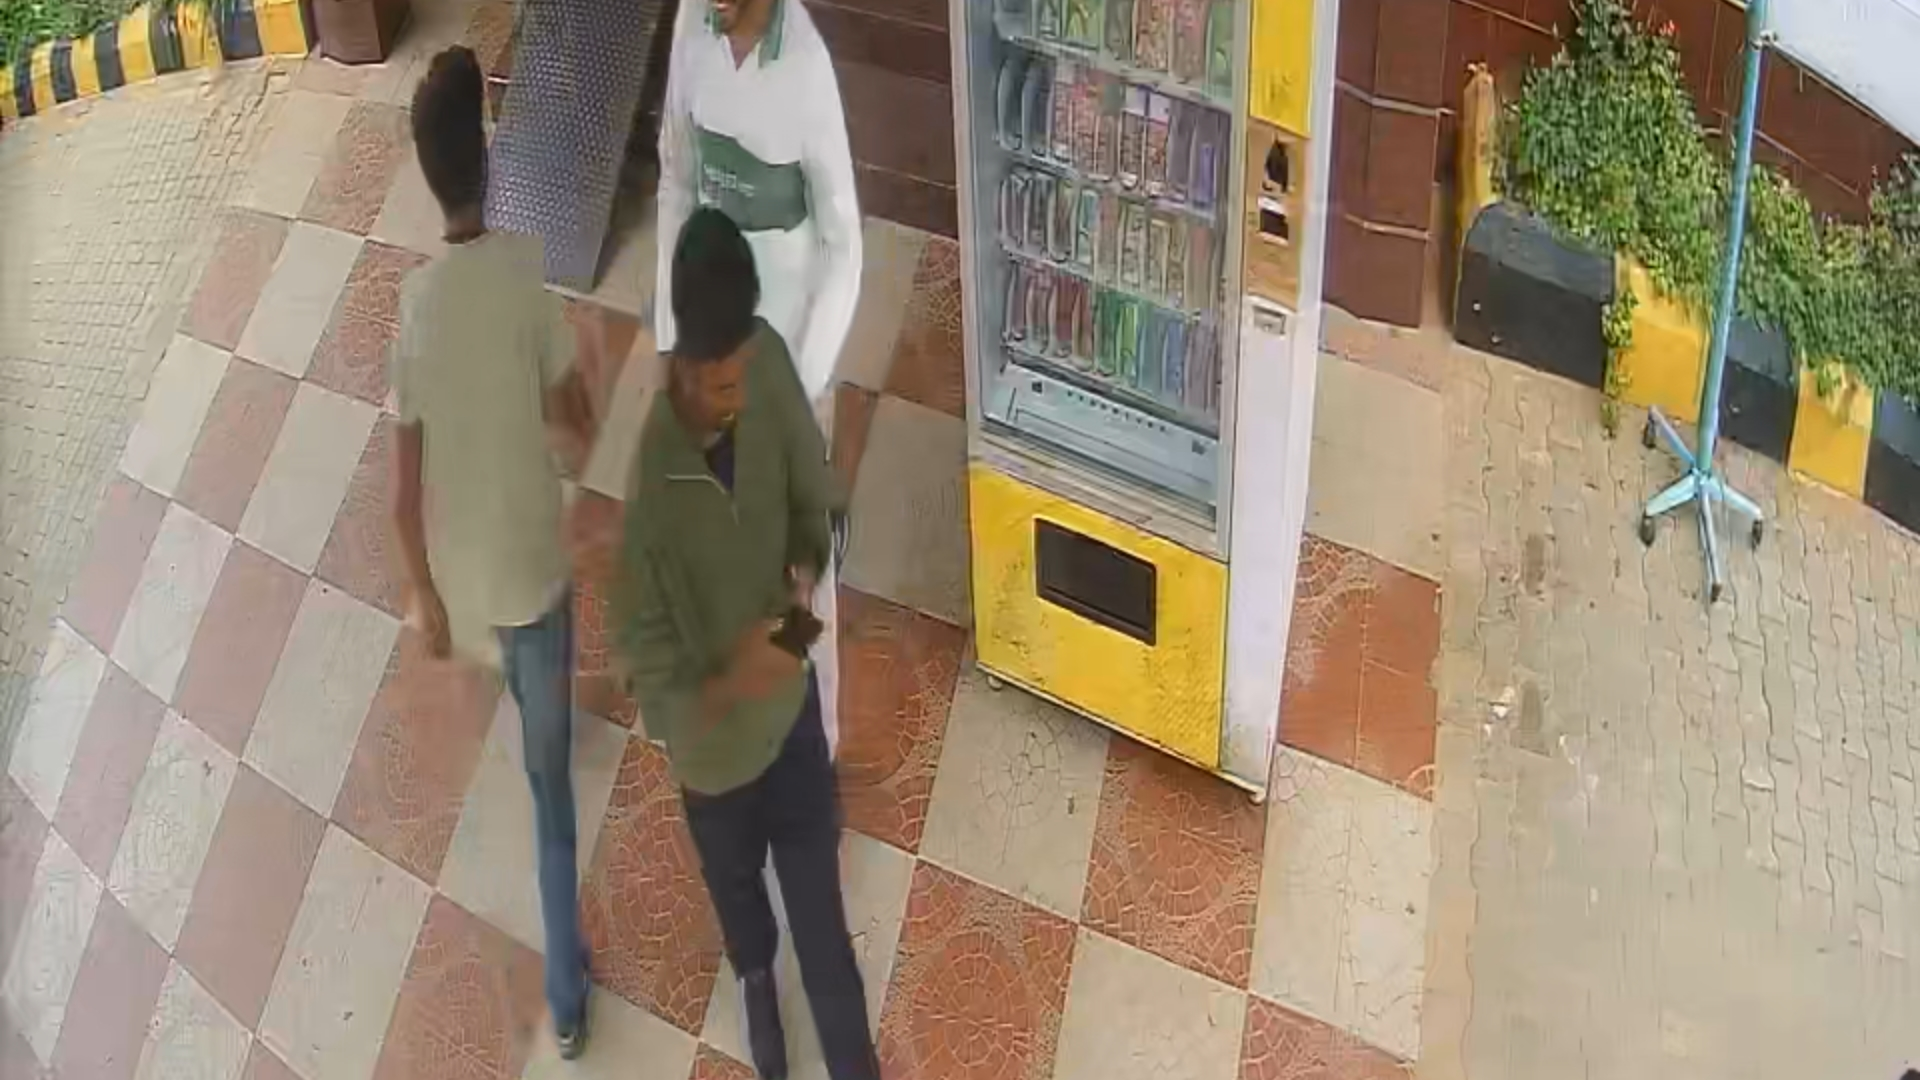intruder: (622, 208, 897, 1073)
